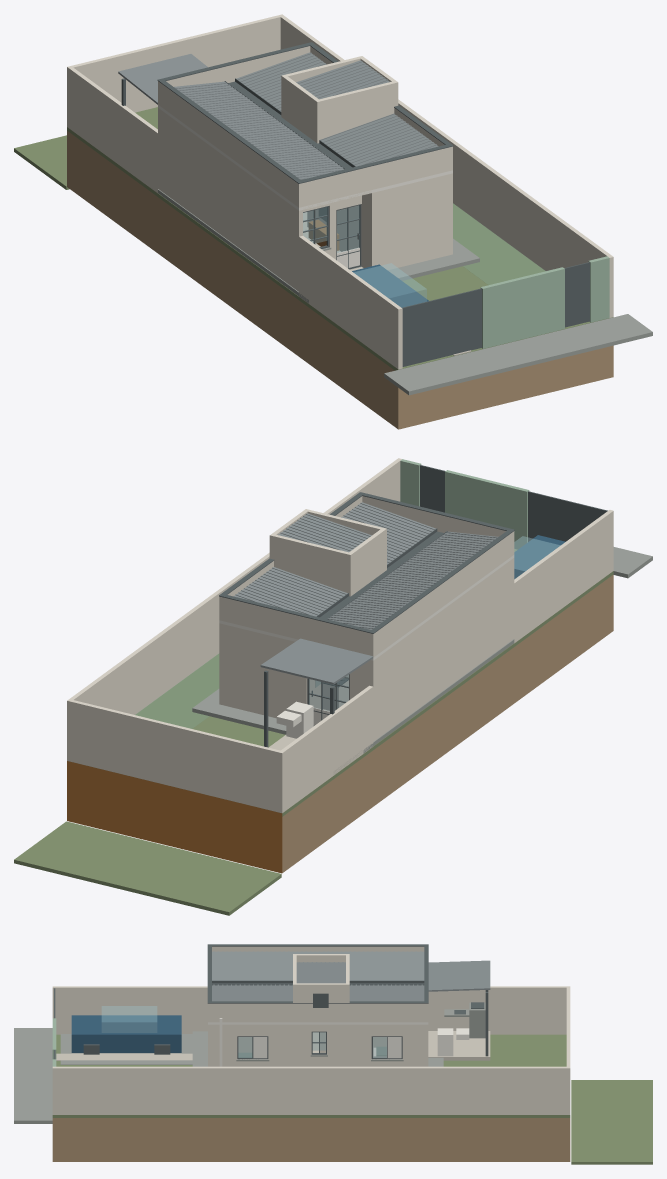
File: casa-bp-opcao-D.glb
3 views of the same model, one above another, from view 1: azimuth 30°, elevation 25°; view 2: azimuth 150°, elevation 25°; view 3: azimuth 270°, elevation 25° (orthographic). The views are drawn at different scales.
Parts seen in each view (by area): view 1: Solo em corte esquemático — perfil lateral não levantado, Muro lateral na divisa da casa — 2,00 m (×2), Parede cega / divisa do desenho, Muro lateral direito do desenho — 2,00 m, Passeio público — contexto ilustrativo, Terreno 7,50 × 20,00 m — cota plana provisória, Fechamento frontal com acessos sugeridos (×2), Frente dormitório 1, Portão sugerido — posição a confirmar (×2), Muro fundos — 2,00 m sobre terreno, Platibanda frente / fundo (×2), Volume elevado caixa d’água (×2) (+17 smaller); view 2: Solo em corte esquemático — perfil lateral não levantado, Face indicativa de contenção — 2 m estimados; seção e fundaç, Muro fundos — 2,00 m sobre terreno, Muro lateral na divisa da casa — 2,00 m (×2), Referência do nível do vizinho — extensão apenas ilustrativa, Parede cega / divisa do desenho, Muro lateral direito do desenho — 2,00 m, Terreno 7,50 × 20,00 m — cota plana provisória, Fundo, Platibanda frente / fundo (×2), Fechamento frontal com acessos sugeridos (×2), Volume elevado caixa d’água (×2) (+17 smaller); view 3: Muro lateral direito do desenho — 2,00 m, Solo em corte esquemático — perfil lateral não levantado, Muro lateral na divisa da casa — 2,00 m (×2), Fachada lateral com janelas (×6), Referência do nível do vizinho — extensão apenas ilustrativa, Platibanda lateral (×2), Terreno 7,50 × 20,00 m — cota plana provisória, Pano 1 — social, Carro compacto — referência 1,75 × 4,25 m, Passeio público — contexto ilustrativo, Cobertura independente proposta — não apoiar no muro/arrimo, Volume elevado caixa d’água (×2) (+14 smaller).
Boxes of the visible parts, bbox=[...] form: Solo em corte esquemático — perfil lateral não levantado: bbox=[67, 131, 613, 429]; Muro lateral na divisa da casa — 2,00 m (×2): bbox=[67, 66, 402, 369]; Parede cega / divisa do desenho: bbox=[158, 108, 302, 291]; Muro lateral direito do desenho — 2,00 m: bbox=[279, 14, 613, 317]; Passeio público — contexto ilustrativo: bbox=[384, 314, 652, 395]; Terreno 7,50 × 20,00 m — cota plana provisória: bbox=[67, 107, 613, 370]; Fechamento frontal com acessos sugeridos (×2): bbox=[480, 256, 609, 348]; Frente dormitório 1: bbox=[369, 174, 448, 269]; Portão sugerido — posição a confirmar (×2): bbox=[402, 262, 589, 366]; Muro fundos — 2,00 m sobre terreno: bbox=[71, 15, 280, 112]; Platibanda frente / fundo (×2): bbox=[166, 46, 448, 206]; Volume elevado caixa d’água (×2): bbox=[281, 74, 394, 143]; Solo em corte esquemático — perfil lateral não levantado: bbox=[282, 574, 613, 872]; Face indicativa de contenção — 2 m estimados; seção e fundaç: bbox=[67, 761, 282, 873]; Muro fundos — 2,00 m sobre terreno: bbox=[71, 700, 280, 812]; Muro lateral na divisa da casa — 2,00 m (×2): bbox=[278, 510, 613, 813]; Referência do nível do vizinho — extensão apenas ilustrativa: bbox=[14, 821, 281, 915]; Parede cega / divisa do desenho: bbox=[369, 558, 514, 741]; Muro lateral direito do desenho — 2,00 m: bbox=[67, 458, 401, 761]; Terreno 7,50 × 20,00 m — cota plana provisória: bbox=[135, 549, 613, 816]; Fundo: bbox=[223, 624, 307, 718]; Platibanda frente / fundo (×2): bbox=[223, 496, 506, 654]; Fechamento frontal com acessos sugeridos (×2): bbox=[400, 459, 529, 549]; Volume elevado caixa d’água (×2): bbox=[274, 527, 386, 596]; Muro lateral direito do desenho — 2,00 m: bbox=[52, 1066, 570, 1114]; Solo em corte esquemático — perfil lateral não levantado: bbox=[52, 1118, 570, 1161]; Muro lateral na divisa da casa — 2,00 m (×2): bbox=[52, 986, 570, 1034]; Fachada lateral com janelas (×6): bbox=[208, 1024, 428, 1066]; Referência do nível do vizinho — extensão apenas ilustrativa: bbox=[571, 1080, 652, 1164]; Platibanda lateral (×2): bbox=[208, 946, 428, 1022]; Terreno 7,50 × 20,00 m — cota plana provisória: bbox=[52, 1034, 570, 1117]; Pano 1 — social: bbox=[212, 951, 424, 980]; Carro compacto — referência 1,75 × 4,25 m: bbox=[71, 1015, 181, 1052]; Passeio público — contexto ilustrativo: bbox=[14, 1028, 52, 1123]; Cobertura independente proposta — não apoiar no muro/arrimo: bbox=[428, 960, 490, 991]; Volume elevado caixa d’água (×2): bbox=[293, 954, 349, 1022].
Size of the model in its own units: 8.5 by 6.68 by 24.7.
